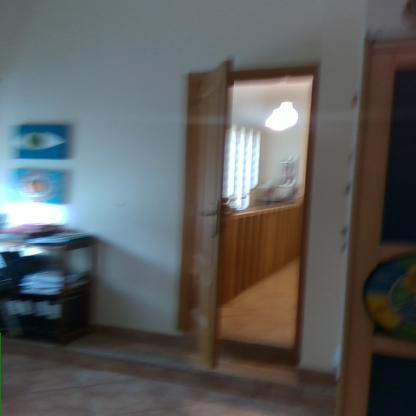semi: (186, 46, 336, 380)
